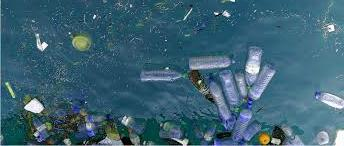Plastic: (180, 47, 239, 75), (198, 80, 235, 122), (248, 66, 277, 111), (132, 64, 186, 86), (305, 86, 342, 112), (242, 44, 264, 86)
